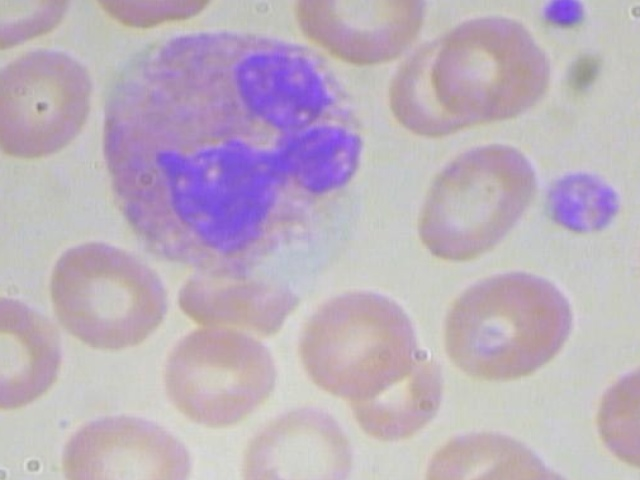Platelets: (538, 160, 640, 241), (536, 0, 596, 32)
RBC: (285, 276, 431, 399), (402, 137, 545, 262), (436, 268, 582, 390), (426, 3, 561, 128), (39, 231, 175, 350), (157, 319, 282, 427), (0, 43, 104, 168), (61, 398, 197, 480), (239, 399, 360, 480), (413, 419, 544, 480), (0, 291, 64, 410), (589, 357, 640, 480)
WBC: (81, 28, 376, 280)
